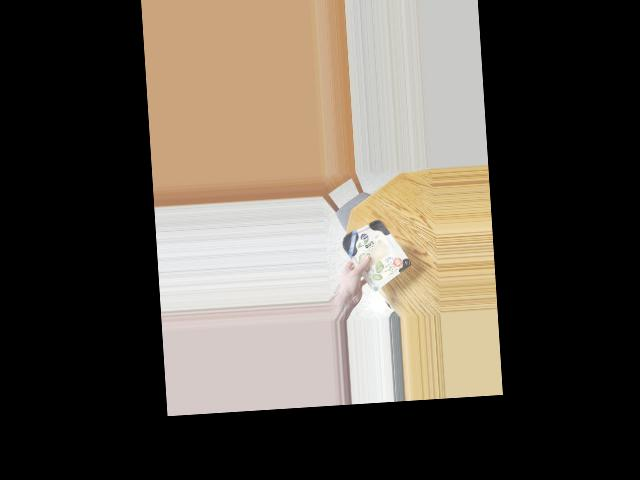cheese: (340, 213, 406, 283)
